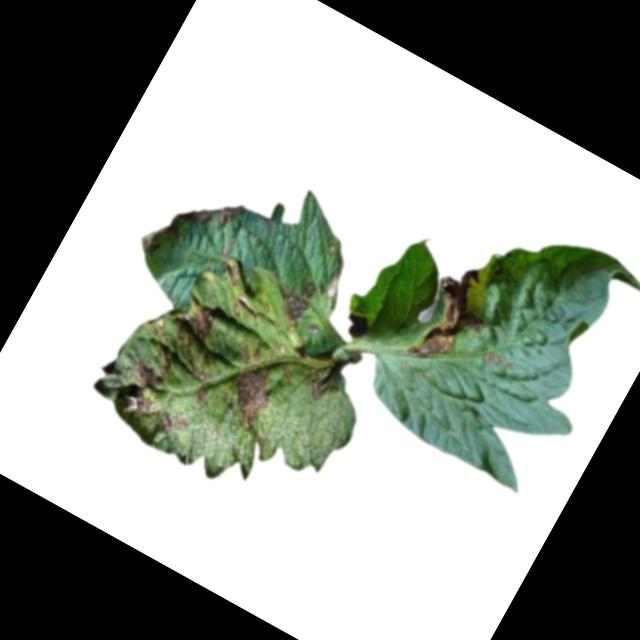Early_blight: (400, 255, 508, 383), (206, 340, 291, 435), (108, 340, 185, 427), (163, 294, 228, 361), (190, 188, 245, 242), (271, 273, 320, 328), (303, 356, 346, 405), (154, 403, 189, 441), (479, 347, 514, 374)
